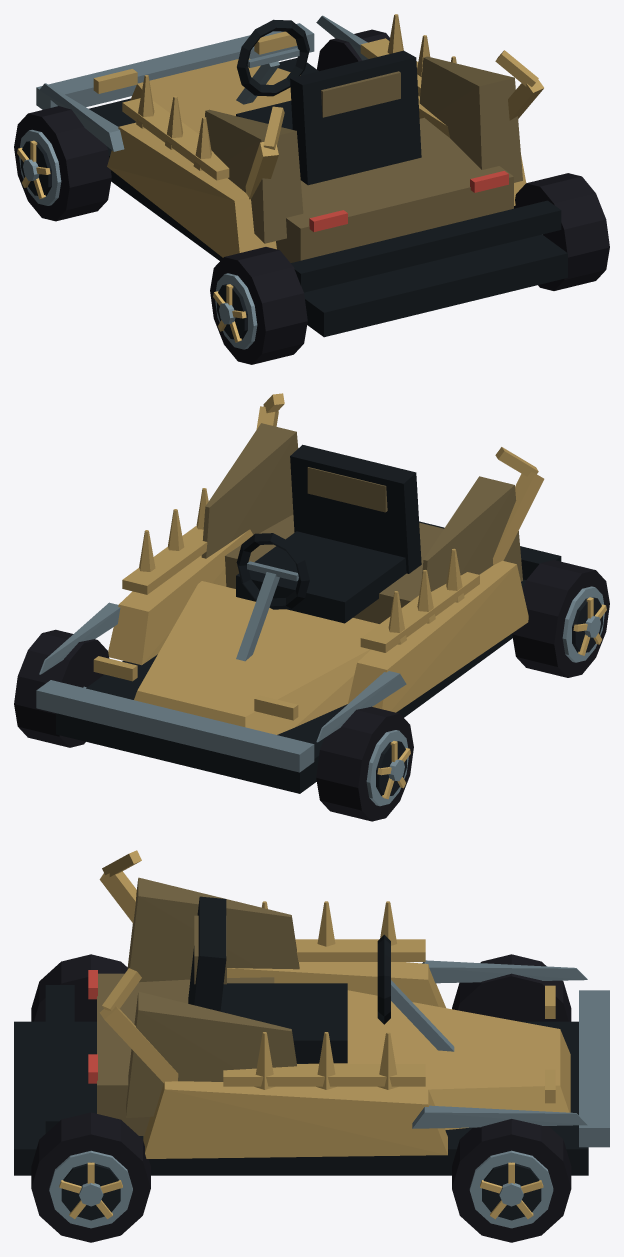
Rendered from kart.glb.
3 views of the same model, one above another, from view 1: azimuth 30°, elevation 25°; view 2: azimuth 150°, elevation 25°; view 3: azimuth 270°, elevation 25° (orthographic). The views are drawn at different scales.
Parts seen in each view (by area): view 1: chassis, wheel-rear-left, wheel-front-left, wheel-rear-right, wheel-front-right; view 2: chassis, wheel-rear-left, wheel-front-left, wheel-front-right; view 3: chassis, wheel-rear-right, wheel-front-right, wheel-front-left, wheel-rear-left.
Part boxes in pixels (x1=…): chassis: x1=36, y1=14, x2=567, y2=337; wheel-rear-left: x1=210, y1=247, x2=307, y2=364; wheel-front-left: x1=14, y1=106, x2=111, y2=221; wheel-rear-right: x1=514, y1=173, x2=609, y2=290; wheel-front-right: x1=317, y1=29, x2=389, y2=71; chassis: x1=36, y1=393, x2=561, y2=793; wheel-rear-left: x1=512, y1=560, x2=609, y2=677; wheel-front-left: x1=316, y1=706, x2=413, y2=821; wheel-front-right: x1=14, y1=629, x2=109, y2=747; chassis: x1=14, y1=850, x2=609, y2=1175; wheel-rear-right: x1=31, y1=1112, x2=150, y2=1242; wheel-front-right: x1=452, y1=1119, x2=571, y2=1242; wheel-front-left: x1=452, y1=954, x2=571, y2=1021; wheel-rear-left: x1=31, y1=954, x2=127, y2=1021.
Bounding box in the file's own units: 2.38 × 1.38 × 3.09.
